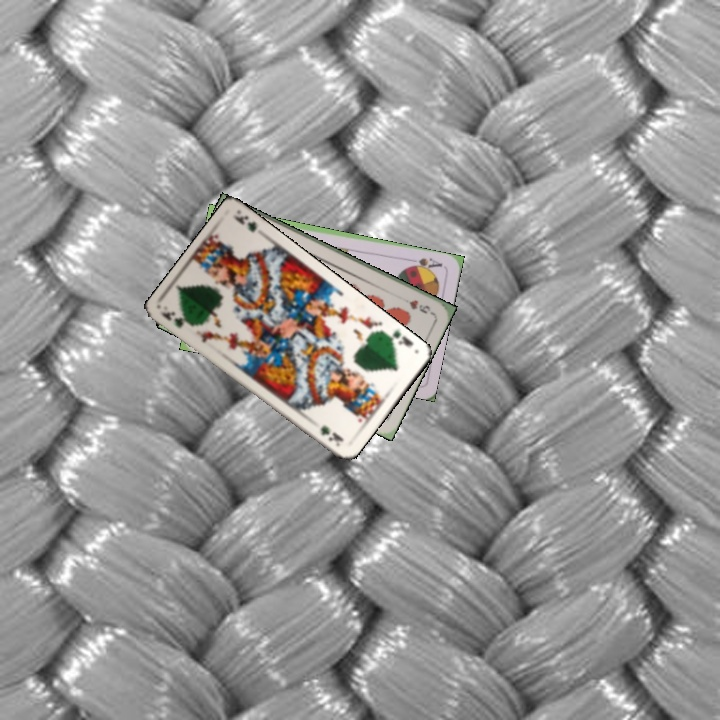GK: (157, 307, 196, 330), (380, 326, 416, 349)
H9: (405, 295, 435, 317)
SA: (405, 254, 445, 273)
